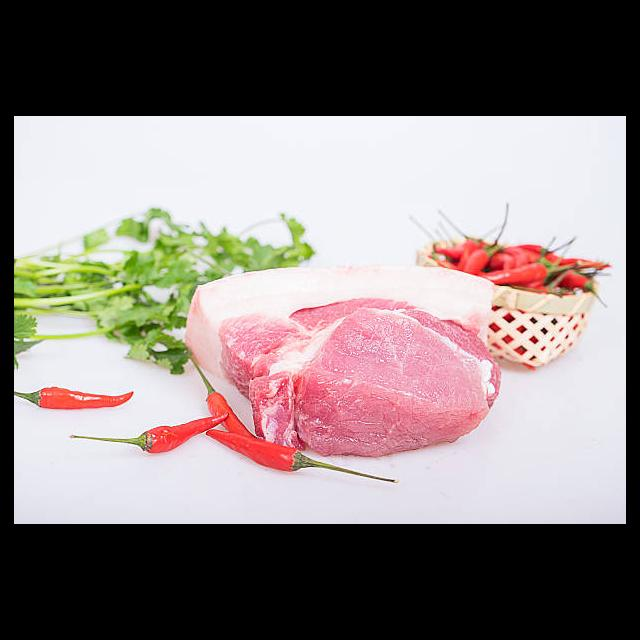chili_pepper: (209, 427, 299, 479), (22, 379, 136, 418), (138, 413, 209, 455), (481, 260, 554, 288)
pork: (202, 260, 486, 434)
